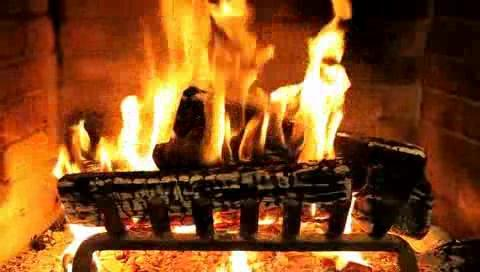fire: (87, 0, 361, 198)
